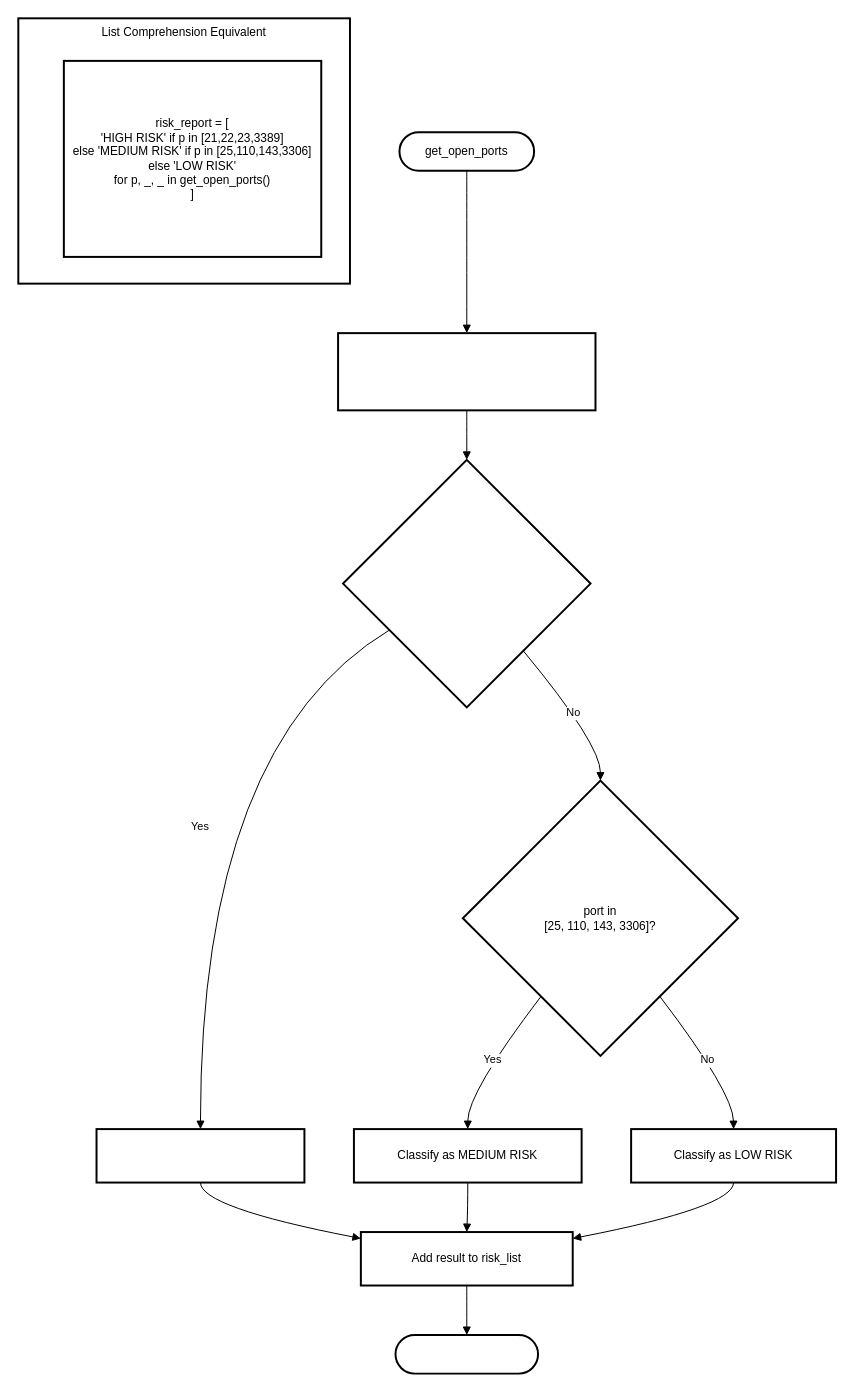
The diagram is 853 pixels wide and 1391 high, and some of its shapes have lost their labels. Here are the shapes that lost their labels. From the top down, the box of each, then its label:
(337, 332, 596, 411): Loop through each open port
(342, 458, 591, 708): port in [21, 22, 23, 3389]?
(95, 1128, 305, 1183): Classify as HIGH RISK
(394, 1334, 539, 1374): Print Risk Report
